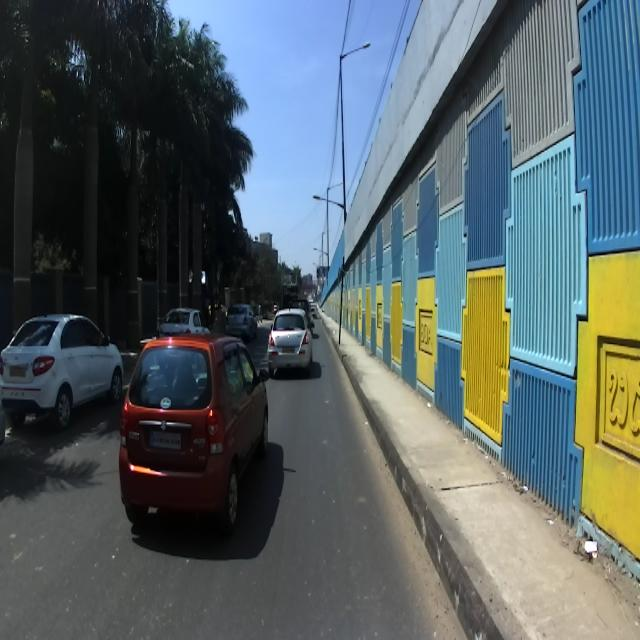car ahead at: (119, 331, 277, 531), (2, 306, 126, 439), (266, 300, 318, 384)
